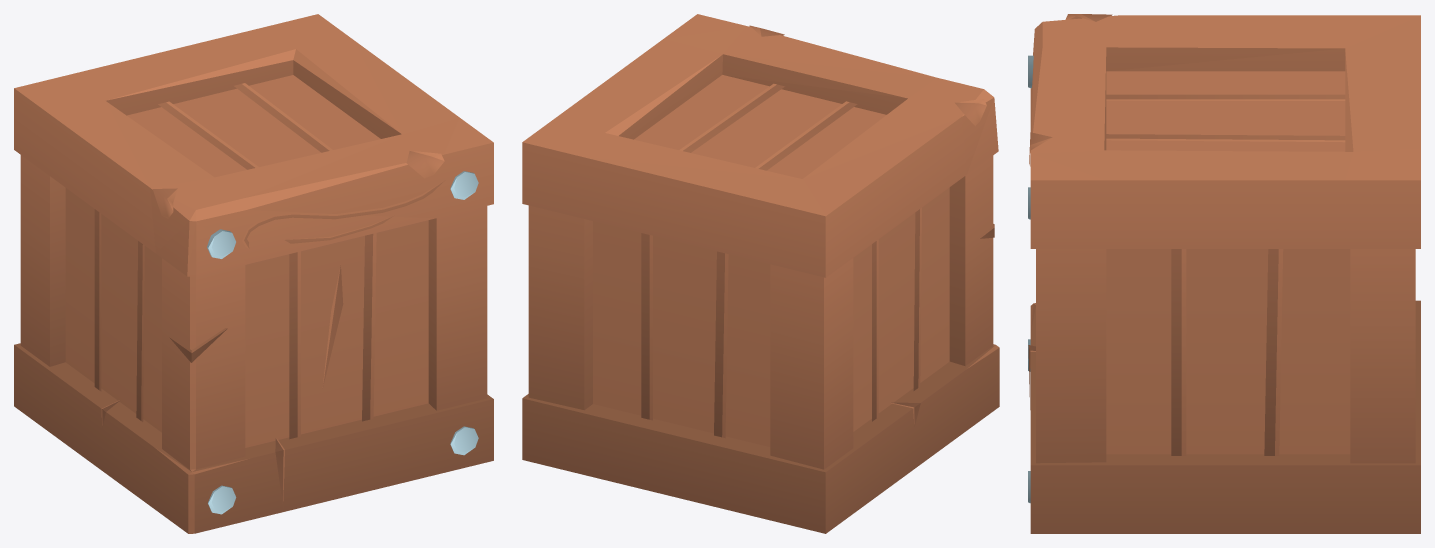
Rendered from woodenbox.glb.
3 views of the same model, side by side, from view 1: azimuth 30°, elevation 25°; view 2: azimuth 150°, elevation 25°; view 3: azimuth 270°, elevation 25° (orthographic). The views are drawn at different scales.
Parts seen in each view (by area): view 1: woodenbox; view 2: woodenbox; view 3: woodenbox.
Boxes of the visible parts, <box> form: woodenbox: <box>14,14,493,533</box>; woodenbox: <box>522,14,999,533</box>; woodenbox: <box>1028,14,1420,533</box>.
Size of the model in its own units: 0.3635 by 0.3644 by 0.3638.
Materials: 1 (1 with a texture image).
